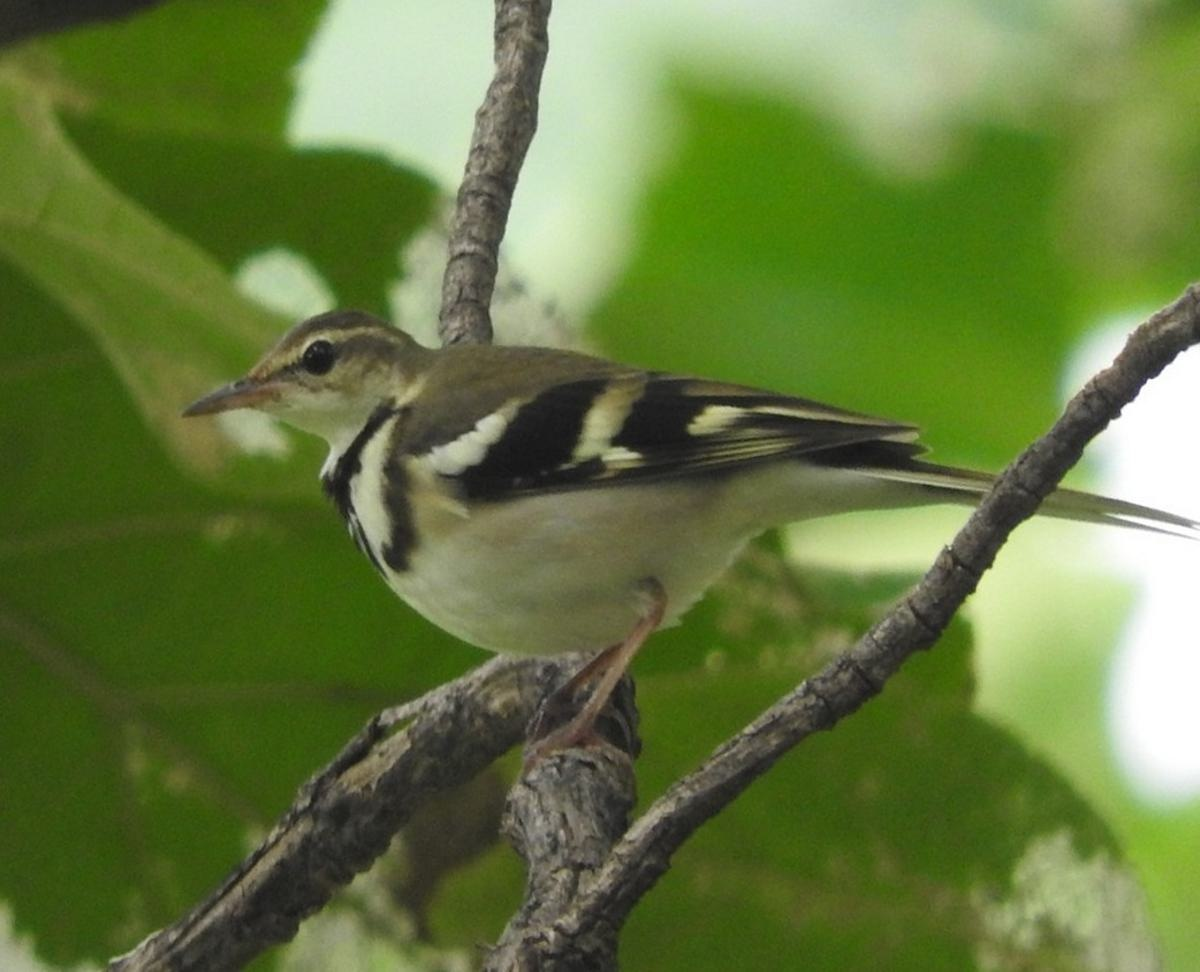wagtail: (204, 281, 941, 684)
